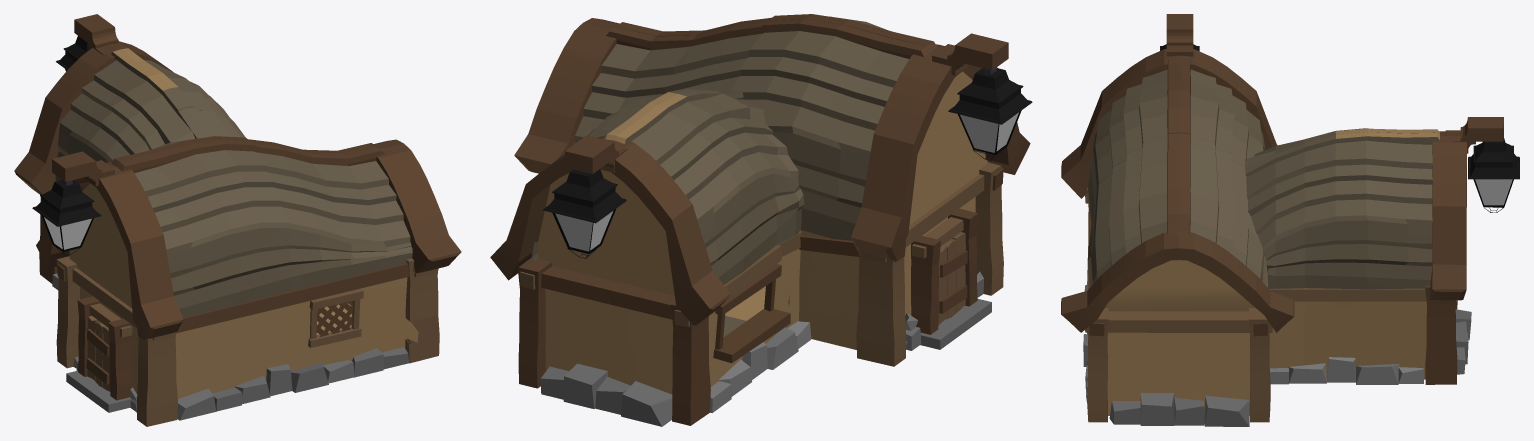
File: casa5.fbx
3 views of the same model, side by side, from view 1: azimuth 30°, elevation 25°; view 2: azimuth 150°, elevation 25°; view 3: azimuth 270°, elevation 25° (orthographic). The views are drawn at different scales.
Parts seen in each view (by area): view 1: casa.008, casa.013, casa.007, casa.011, pedras.008, casa.016, casa.026, arco de entrada.001, casa.005, casa.022, casa.014, casa.018 (+15 smaller); view 2: casa.008, casa.007, casa.026, casa.011, casa.013, casa.016, arco de entrada.001, casa.018, casa.028, casa.022, casa.024, pedras.008 (+16 smaller); view 3: casa.007, casa.013, casa.016, casa.008, casa.028, casa.026, casa.011, pedras.008, casa.020, casa.014, pedras.007, casa.031 (+9 smaller).
Boxes of the visible parts, x1=… form: casa.008: x1=80, y1=138, x2=291, y2=398; casa.013: x1=255, y1=152, x2=418, y2=371; casa.007: x1=55, y1=60, x2=245, y2=181; casa.011: x1=36, y1=161, x2=183, y2=339; pedras.008: x1=73, y1=347, x2=408, y2=420; casa.016: x1=374, y1=139, x2=461, y2=273; casa.026: x1=14, y1=41, x2=173, y2=194; arco de entrada.001: x1=66, y1=296, x2=132, y2=412; casa.005: x1=107, y1=294, x2=177, y2=426; casa.022: x1=69, y1=183, x2=131, y2=307; casa.014: x1=405, y1=258, x2=439, y2=363; casa.018: x1=56, y1=256, x2=111, y2=368; casa.008: x1=725, y1=16, x2=975, y2=349; casa.007: x1=531, y1=94, x2=778, y2=394; casa.026: x1=490, y1=135, x2=730, y2=325; casa.011: x1=851, y1=44, x2=1030, y2=260; casa.013: x1=574, y1=33, x2=765, y2=315; casa.016: x1=514, y1=18, x2=619, y2=173; arco de entrada.001: x1=911, y1=208, x2=991, y2=349; casa.018: x1=856, y1=205, x2=942, y2=366; casa.028: x1=706, y1=93, x2=804, y2=338; casa.022: x1=909, y1=71, x2=988, y2=224; casa.024: x1=608, y1=282, x2=710, y2=425; pedras.008: x1=540, y1=271, x2=983, y2=426; casa.007: x1=1304, y1=128, x2=1432, y2=379; casa.013: x1=1088, y1=137, x2=1268, y2=415; casa.016: x1=1061, y1=232, x2=1294, y2=332; casa.008: x1=1088, y1=69, x2=1264, y2=222; casa.028: x1=1246, y1=139, x2=1305, y2=368; casa.026: x1=1429, y1=131, x2=1466, y2=300; casa.011: x1=1061, y1=49, x2=1277, y2=198; pedras.008: x1=1083, y1=285, x2=1471, y2=426; casa.020: x1=1178, y1=308, x2=1272, y2=422; casa.014: x1=1085, y1=308, x2=1179, y2=422; pedras.007: x1=1270, y1=357, x2=1423, y2=384; casa.031: x1=1425, y1=285, x2=1457, y2=384.
Bounding box in the file's own units: 6450 × 4147 × 7049.
